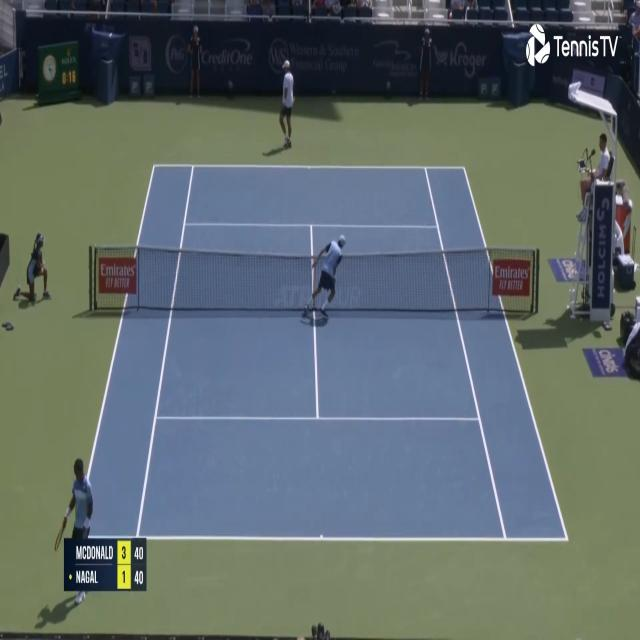tennis-player: (54, 453, 96, 608), (276, 57, 297, 150)
